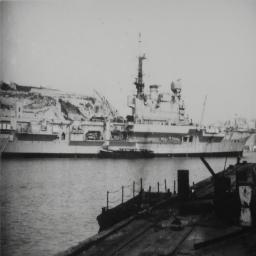Portanaves: (2, 34, 256, 161)
